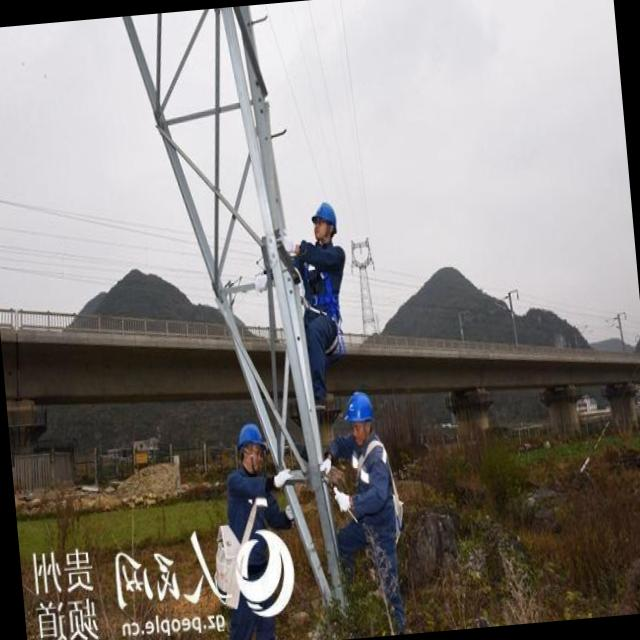helmet: (337, 388, 382, 434), (306, 188, 341, 235), (233, 419, 270, 462)
